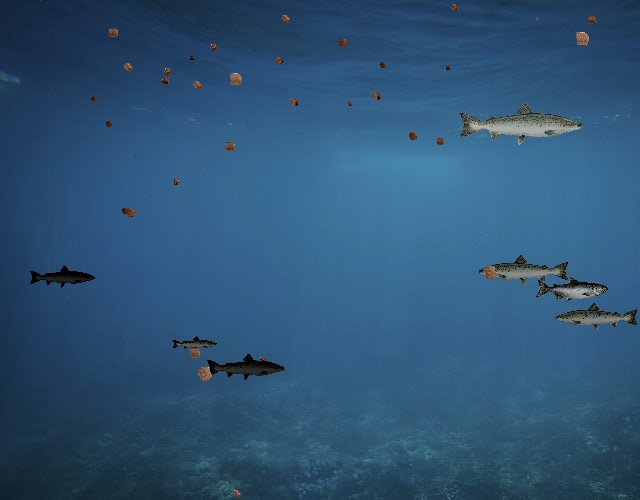Fish: (456, 100, 585, 146), (477, 253, 571, 287), (554, 301, 640, 332), (205, 353, 286, 382), (535, 276, 608, 303), (29, 264, 97, 289), (172, 336, 219, 353)
Pellet: (190, 358, 220, 388), (183, 342, 206, 365), (366, 86, 385, 105), (228, 485, 245, 500), (168, 175, 183, 190), (118, 204, 132, 218)
